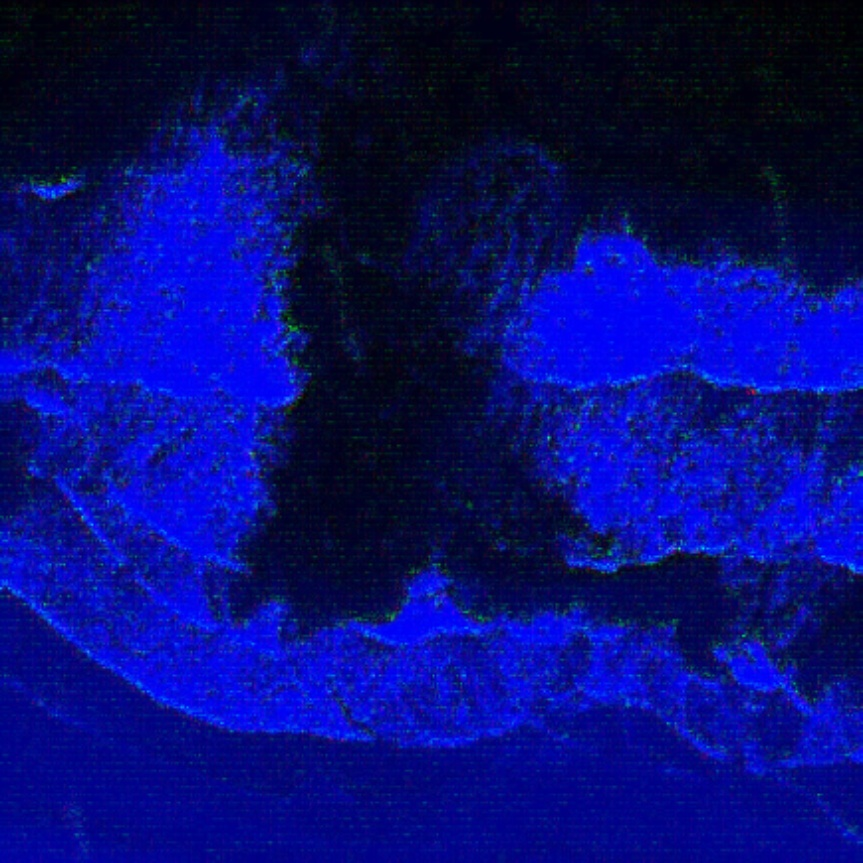rip_current: (221, 102, 621, 632)
